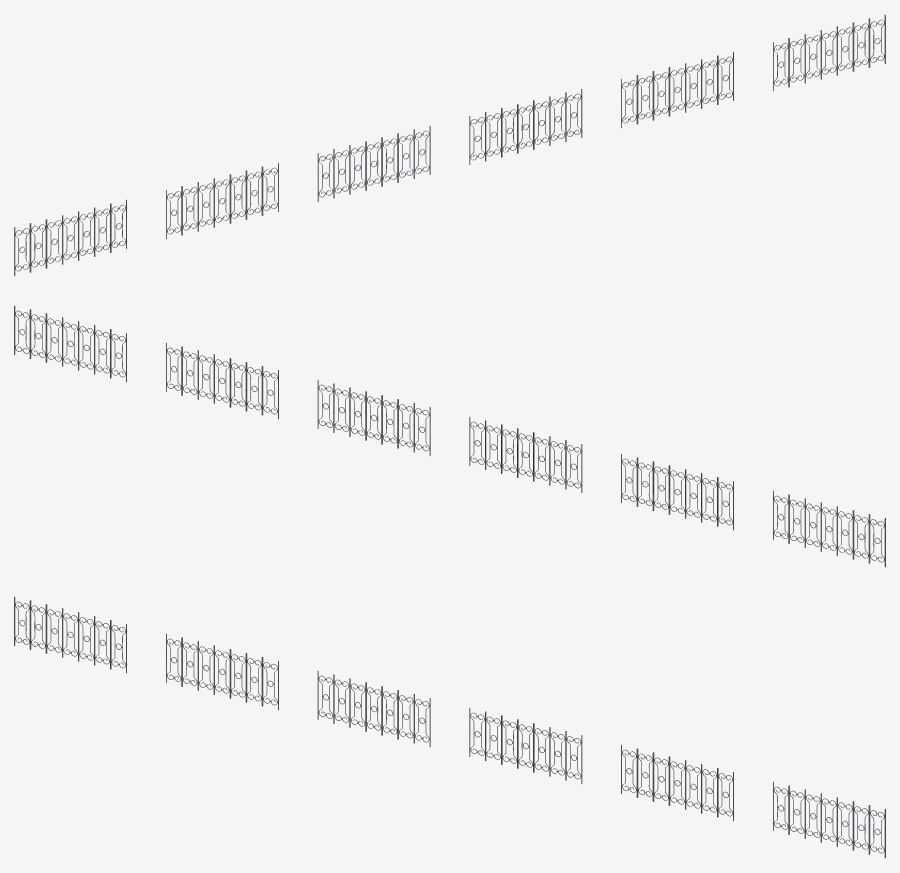
File: Fence_F1 (1).fbx
3 views of the same model, one above another, from view 1: azimuth 30°, elevation 25°; view 2: azimuth 150°, elevation 25°; view 3: azimuth 330°, elevation 25° (orthographic).
Visible parts, largest first — view 1: Fence_F1 (1); view 2: Fence_F1 (1); view 3: Fence_F1 (1).
Boxes of the visible parts, <box> form: Fence_F1 (1): <box>14,15,885,275</box>; Fence_F1 (1): <box>14,306,885,566</box>; Fence_F1 (1): <box>14,597,885,857</box>.
Size of the model in its own units: 22.97 by 0.0408 by 1.24.
Materials: 1 (1 with a texture image).
